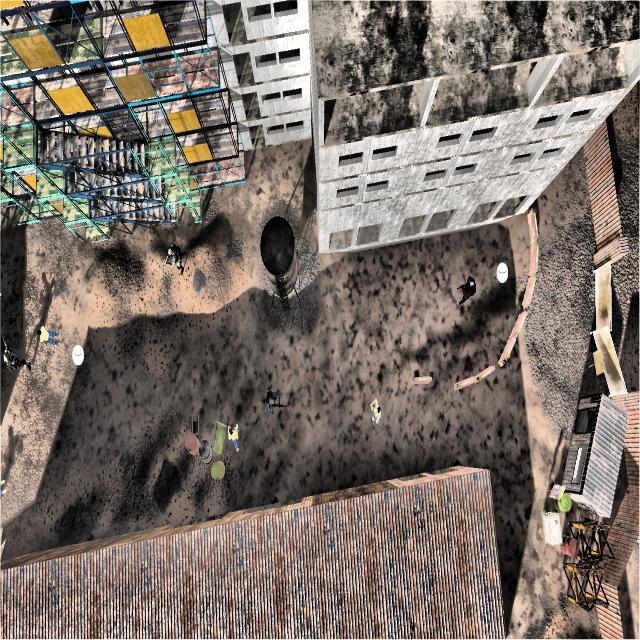bad: (0, 334, 34, 391), (255, 376, 287, 427), (454, 265, 480, 313), (162, 240, 185, 286)
good: (364, 386, 389, 438), (36, 322, 62, 360), (223, 420, 245, 452)
